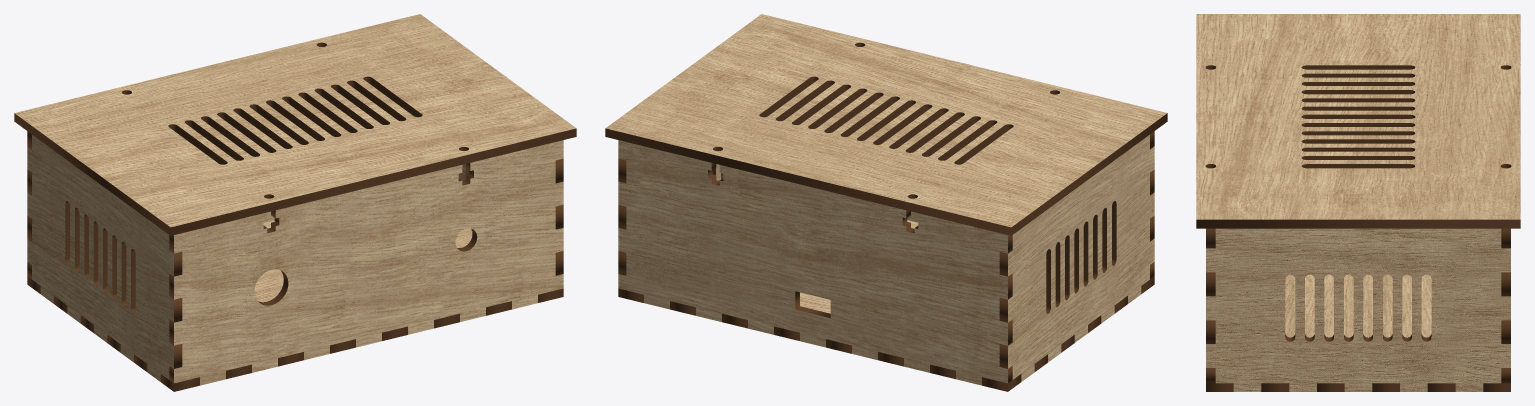
Rendered from project-enclosure.glb.
3 renders of one model, left to right at view 1: azimuth 30°, elevation 25°; view 2: azimuth 150°, elevation 25°; view 3: azimuth 270°, elevation 25°, orthographic. The views are drawn at different scales.
Visible parts, largest first — view 1: body1, body2, body4, body0, body5; view 2: body1, body3, body4, body0, body5; view 3: body1, body5, body0, body2, body3.
Boxes of the visible parts, x1,y1,x2,y2 form: body1: (14, 14, 576, 235); body2: (169, 140, 563, 385); body4: (27, 135, 182, 381); body0: (27, 220, 563, 391); body5: (458, 158, 563, 275); body1: (605, 14, 1167, 235); body3: (618, 140, 1012, 385); body4: (999, 135, 1154, 381); body0: (618, 220, 1154, 391); body5: (618, 158, 723, 275); body1: (1196, 14, 1520, 228); body5: (1206, 228, 1510, 391); body0: (1206, 274, 1510, 391); body2: (1206, 228, 1215, 383); body3: (1501, 228, 1510, 383).
Size of the model in its own units: 0.15 by 0.06 by 0.1.
2 materials, 1 textured.
